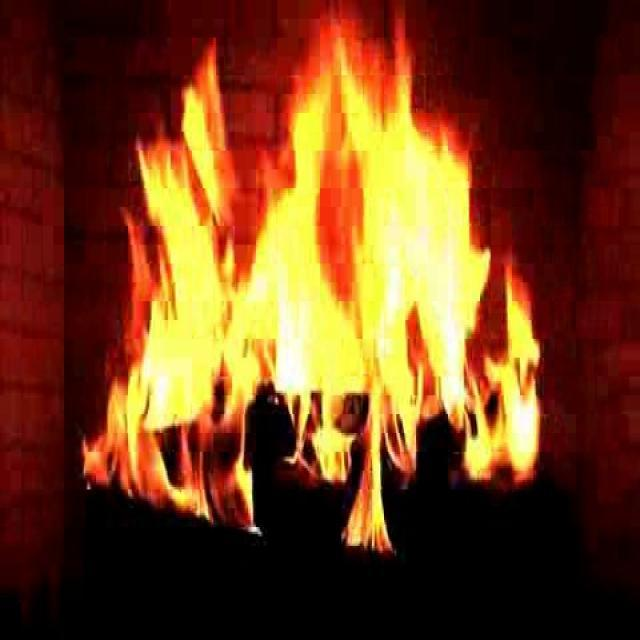Fire: (82, 59, 542, 477)
